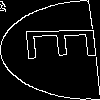E: (25, 25, 100, 61)
